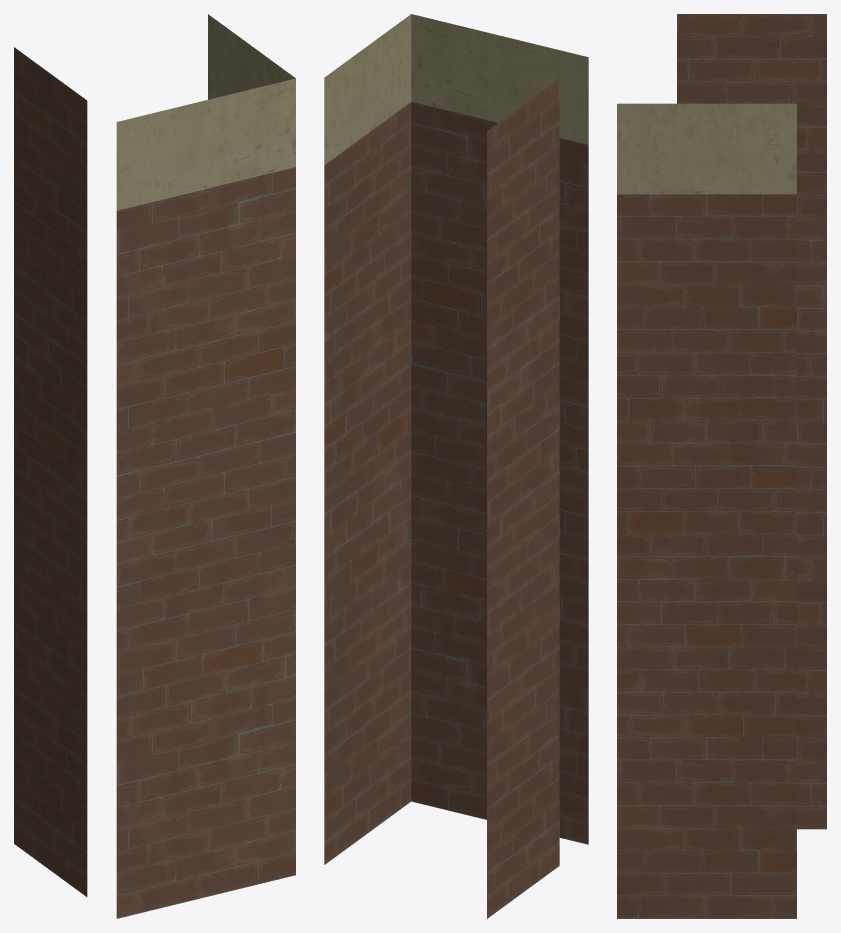
File: Brick_TopTrim_90Angle_L.glb
3 views of the same model, side by side, from view 1: azimuth 30°, elevation 25°; view 2: azimuth 150°, elevation 25°; view 3: azimuth 270°, elevation 25° (orthographic). The views are drawn at different scales.
Parts seen in each view (by area): view 1: Brick_TopTrim_90Angle_L; view 2: Brick_TopTrim_90Angle_L; view 3: Brick_TopTrim_90Angle_L.
Boxes of the visible parts, box(x1,y1,x2,y2) form: Brick_TopTrim_90Angle_L: box(14, 14, 295, 918); Brick_TopTrim_90Angle_L: box(324, 14, 588, 918); Brick_TopTrim_90Angle_L: box(617, 14, 826, 918).
Bounding box in the file's own units: 0.7063 × 3 × 0.7001.
2 materials, 2 textured.
